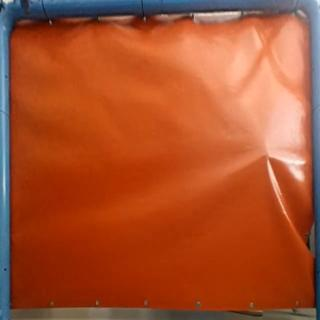Hit-hRxx: (260, 147, 274, 165)
